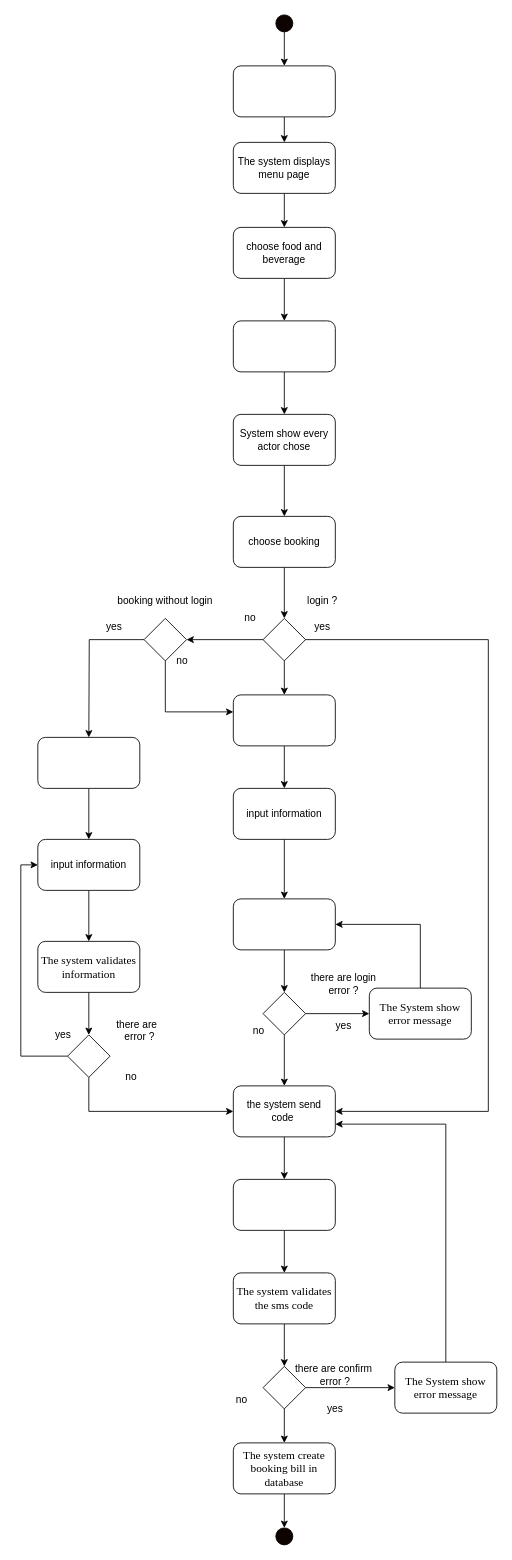
The diagram is 512 pixels wide and 1560 high, and some of its shapes have lost their labels. Each missing label, with the centre of its shape:
actor confirm code: (x=283, y=1204)
choose chart: (x=283, y=346)
choose menu: (x=283, y=91)
show form booking: (x=88, y=762)
show login page: (x=283, y=720)
system validate login information: (x=283, y=924)
